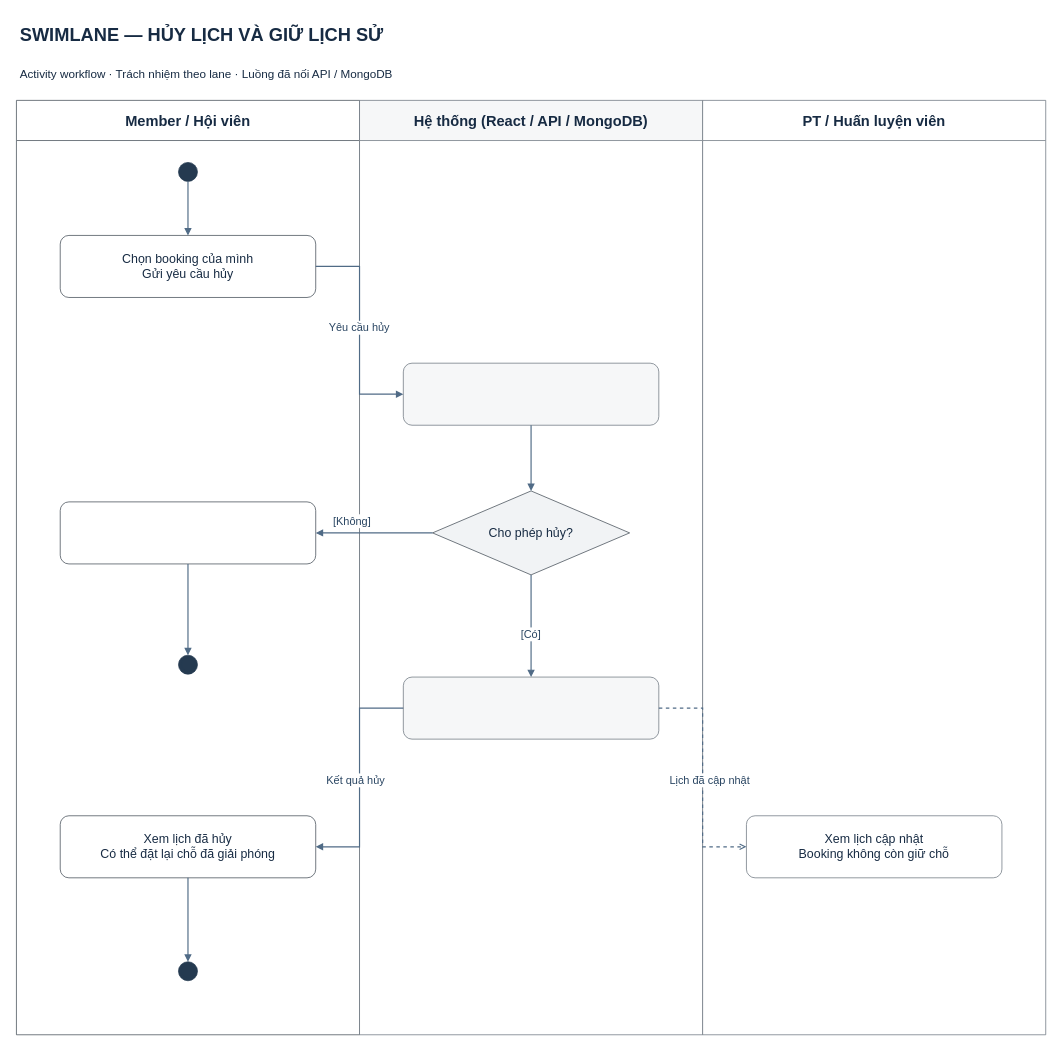
The diagram is 1061 pixels wide and 1048 high, and some of its shapes have lost their labels. The centre of each missing label's shape, as x and y in pixels:
"Hiển thị lỗi từ chối Giữ nguyên trạng thái" goes at [187,532].
"Kiểm tra quyền, trạng thái booked và chưa đến giờ bắt đầu" goes at [531,393].
"Lưu cancelled; hoàn quota Giữ document và lịch sử" goes at [531,707].
